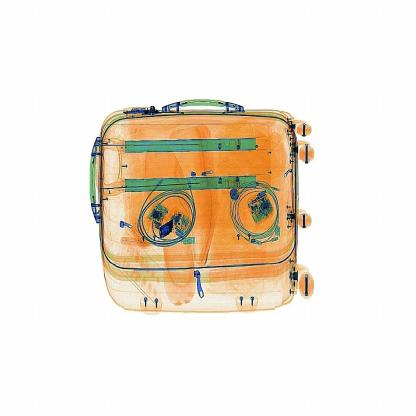knife: (155, 214, 192, 246)
